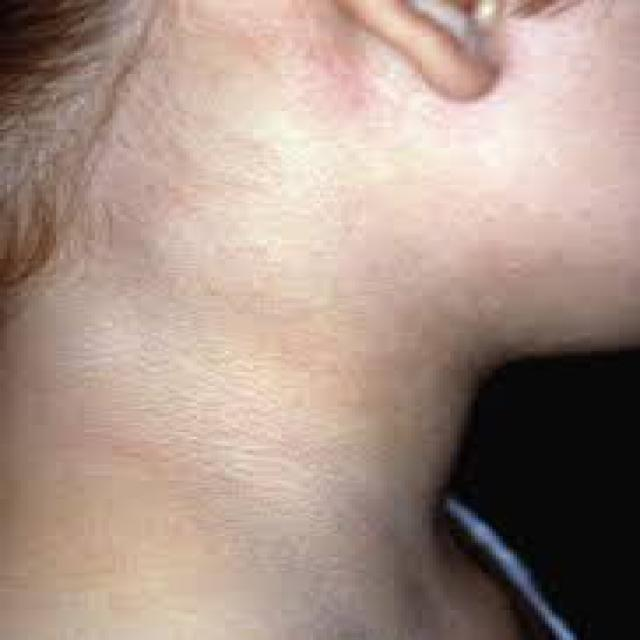Acanthosis Nigricans: (1, 167, 536, 620)
